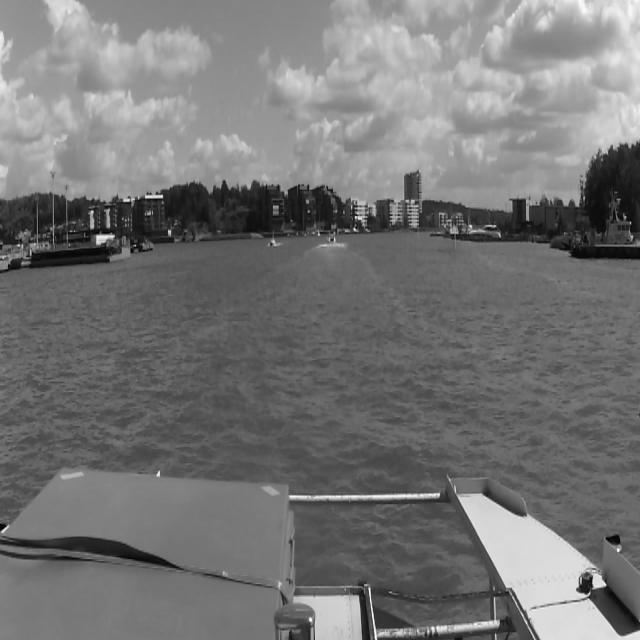ship: (328, 231, 336, 243), (267, 236, 275, 246)
